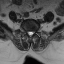CCS_normal: (29, 28, 32, 38)
LFS_severe_stenosis: (34, 28, 37, 34)
LLS_normal: (32, 29, 34, 36)
RFS_severe_stenosis: (24, 27, 27, 34)
RLS_normal: (27, 29, 29, 36)
